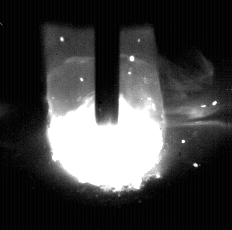arame: (95, 0, 121, 125)
poca: (46, 0, 165, 230)
